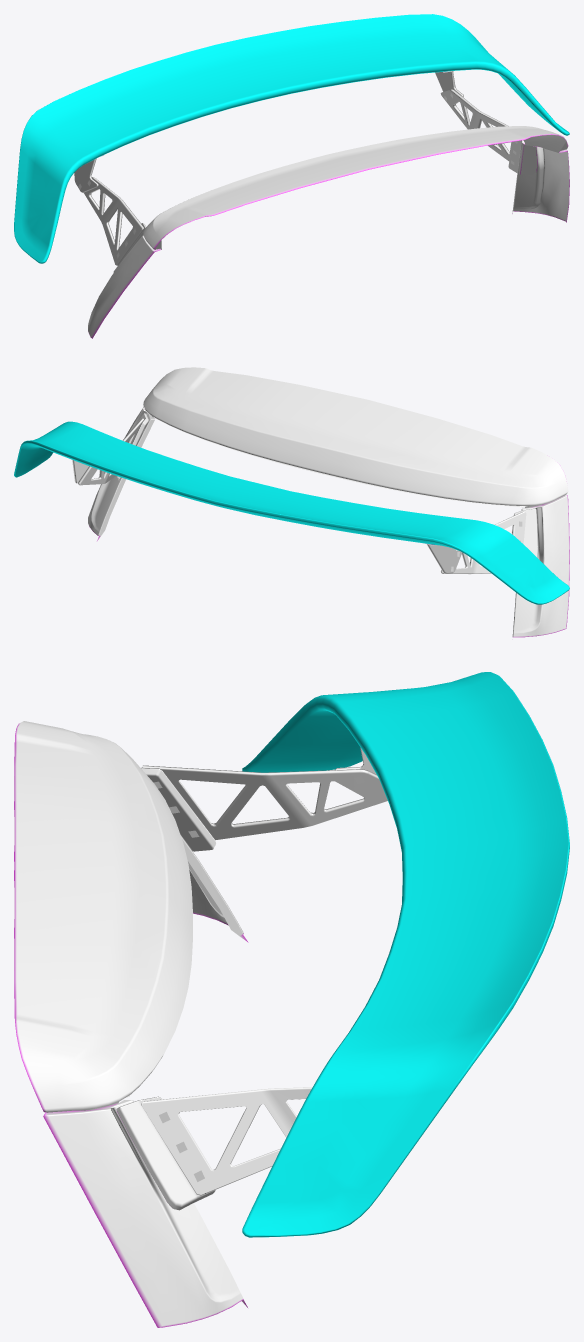
The model's file is Car_Mini_CountrymanJCW_2017_Spoiler_SetD_AltB.fbx.
3 renders of one model, top to bottom at view 1: azimuth 30°, elevation 25°; view 2: azimuth 150°, elevation 25°; view 3: azimuth 270°, elevation 25°, orthographic. The views are drawn at different scales.
Visible parts, largest first — view 1: Spoiler 6; view 2: Spoiler 6; view 3: Spoiler 6.
Boxes of the visible parts, x1,y1,x2,y2 form: Spoiler 6: (14, 14, 569, 338); Spoiler 6: (14, 367, 569, 637); Spoiler 6: (14, 672, 569, 1327).
Bounding box in the file's own units: 1.48 × 0.4169 × 0.7419.
